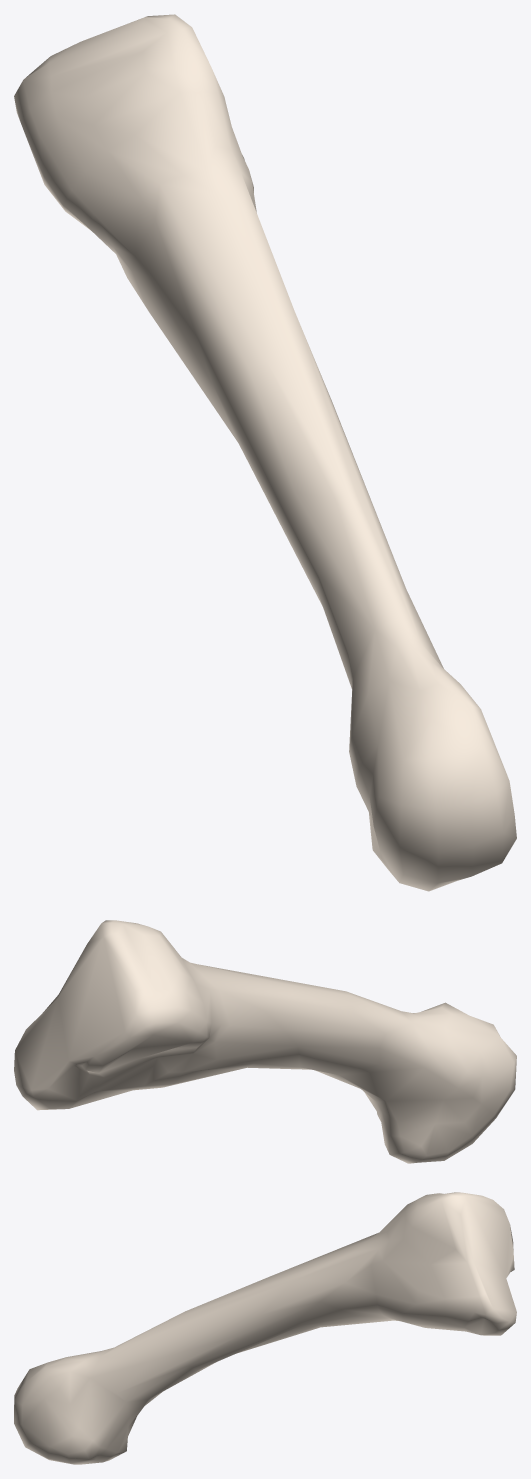
The model's file is right_metatarsal_3.glb.
3 renders of one model, top to bottom at view 1: azimuth 30°, elevation 25°; view 2: azimuth 150°, elevation 25°; view 3: azimuth 270°, elevation 25°, orthographic. The views are drawn at different scales.
Parts seen in each view (by area): view 1: Third metatarsal bone.r; view 2: Third metatarsal bone.r; view 3: Third metatarsal bone.r.
Boxes of the visible parts, x1,y1,x2,y2 form: Third metatarsal bone.r: [14, 14, 516, 891]; Third metatarsal bone.r: [14, 920, 516, 1163]; Third metatarsal bone.r: [14, 1192, 516, 1464].
Bounding box in the file's own units: 0.0227 × 0.0438 × 0.0672.
